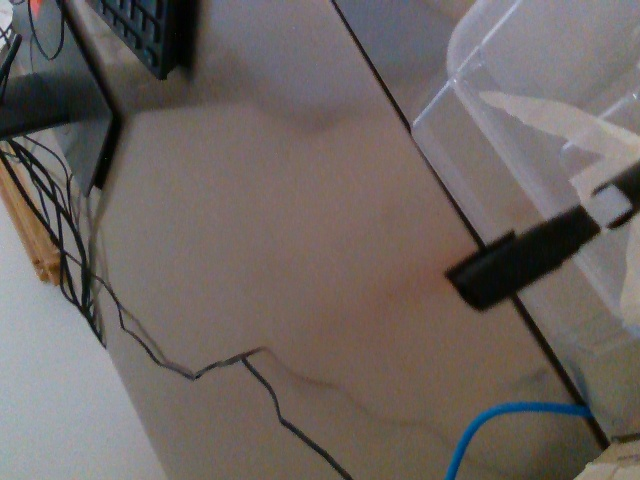test_strip: (443, 182, 628, 312)
